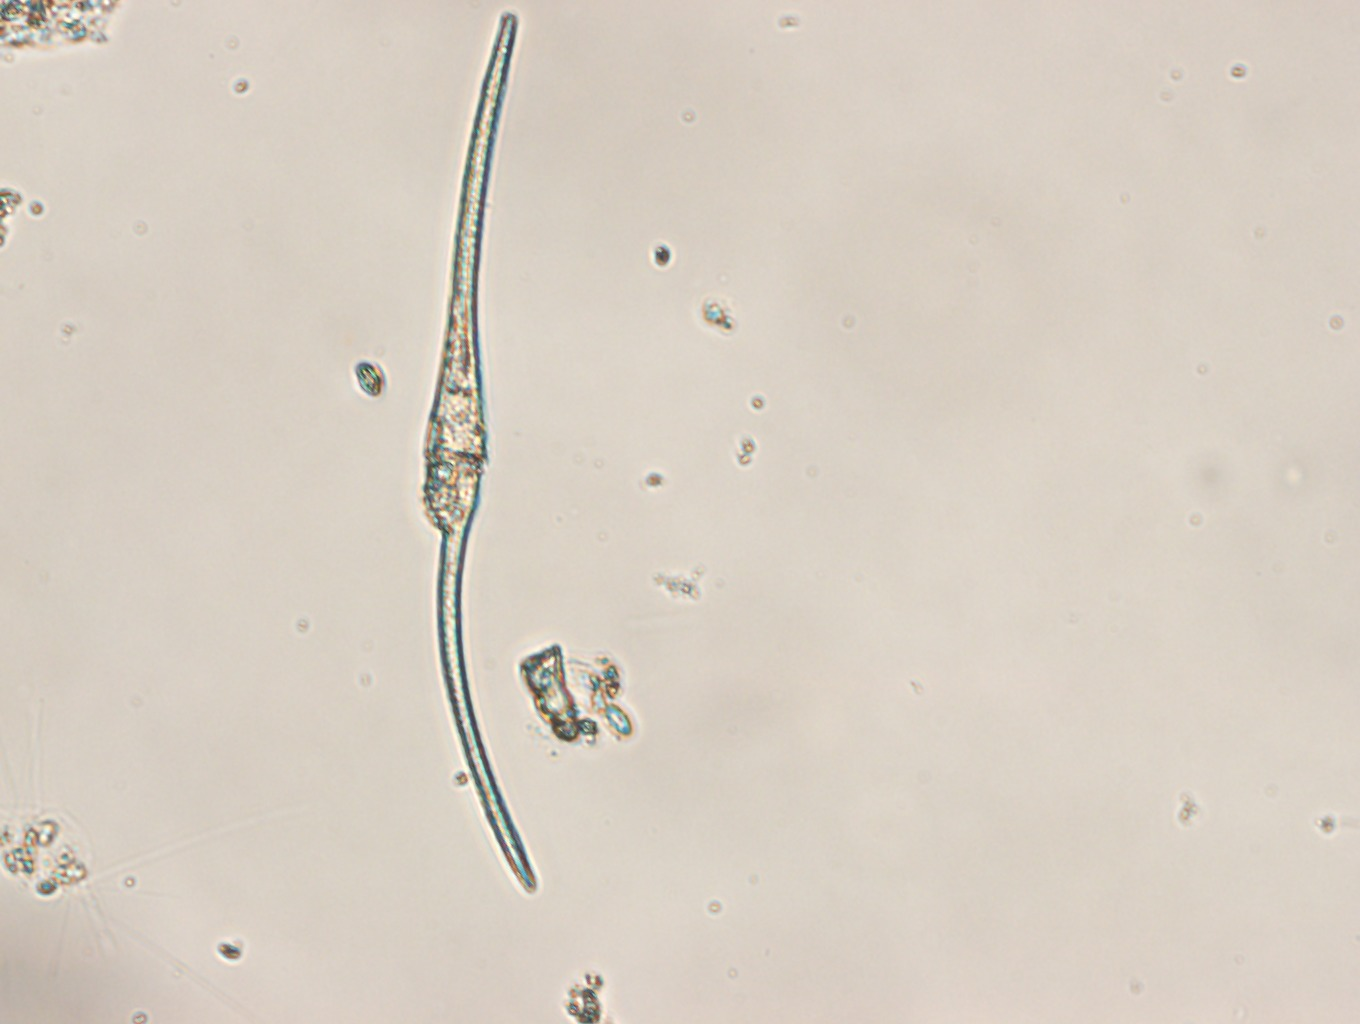ceratium fusus: (417, 11, 542, 900)
